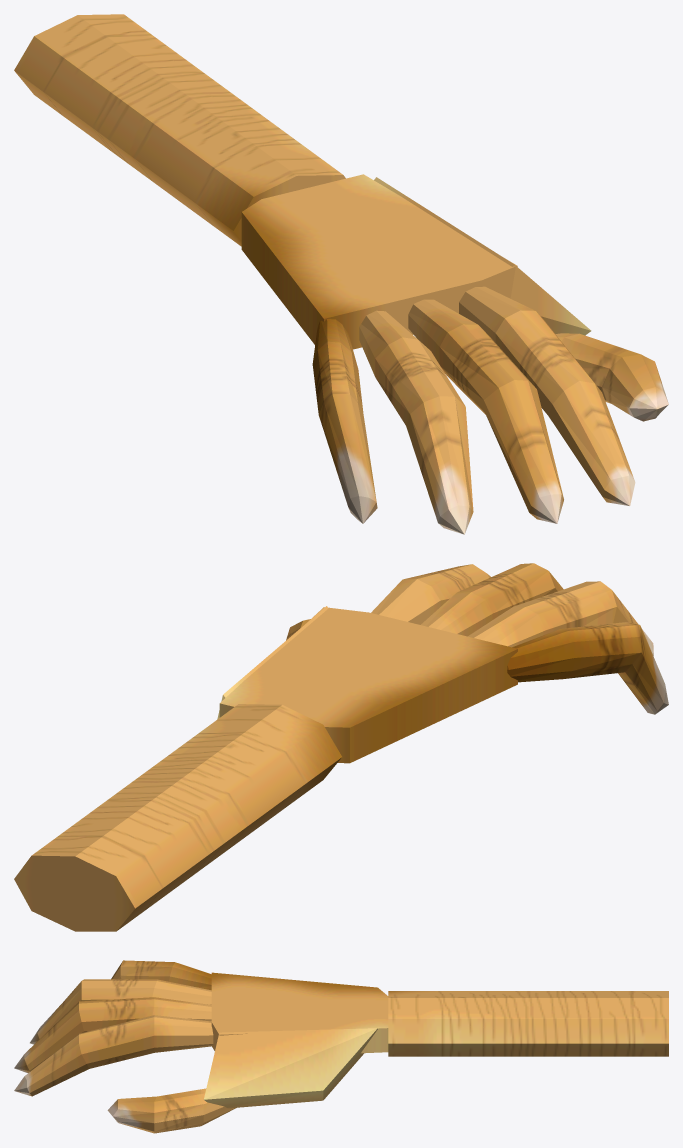
Rendered from Hand.glb.
3 views of the same model, one above another, from view 1: azimuth 30°, elevation 25°; view 2: azimuth 150°, elevation 25°; view 3: azimuth 270°, elevation 25° (orthographic). The views are drawn at different scales.
Visible parts, largest first — view 1: Hand; view 2: Hand; view 3: Hand.
Boxes of the visible parts, x1,y1,x2,y2 form: Hand: (14,14,668,534); Hand: (14,563,668,931); Hand: (14,960,668,1133).
Bounding box in the file's own units: 74.14 × 27.02 × 184.
1 material, 1 textured.
